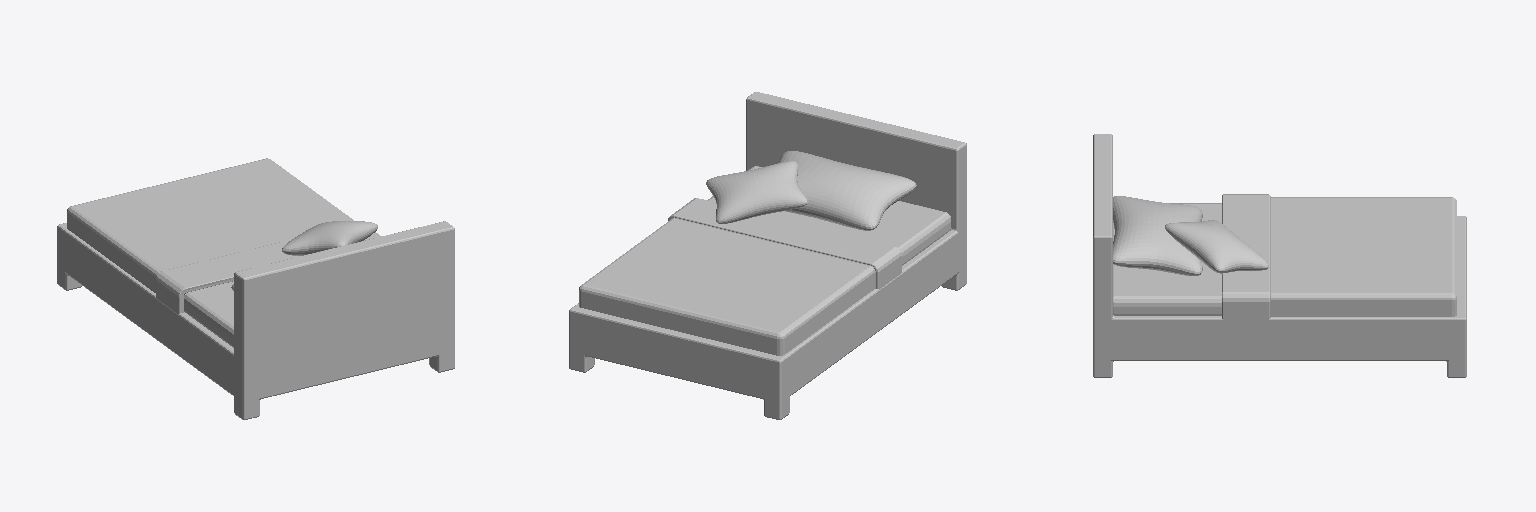
File: cama_2.obj
3 renders of one model, left to right at view 1: azimuth 30°, elevation 25°; view 2: azimuth 150°, elevation 25°; view 3: azimuth 270°, elevation 25°, orthographic.
Visible parts, largest first — view 1: Bed_frame_Plane.001, sheet_Plane.002, metress_Plane, pillow2_Cube.001; view 2: Bed_frame_Plane.001, sheet_Plane.002, Pillow_Cube, pillow2_Cube.001, metress_Plane; view 3: sheet_Plane.002, Bed_frame_Plane.001, metress_Plane, Pillow_Cube, pillow2_Cube.001.
Boxes of the visible parts, x1,y1,x2,y2 form: Bed_frame_Plane.001: [57, 221, 454, 419]; sheet_Plane.002: [67, 158, 381, 313]; metress_Plane: [184, 281, 233, 347]; pillow2_Cube.001: [282, 221, 377, 255]; Bed_frame_Plane.001: [569, 92, 966, 419]; sheet_Plane.002: [579, 198, 901, 355]; Pillow_Cube: [779, 151, 916, 230]; pillow2_Cube.001: [706, 161, 807, 223]; metress_Plane: [708, 166, 950, 265]; sheet_Plane.002: [1222, 194, 1456, 319]; Bed_frame_Plane.001: [1093, 134, 1466, 377]; metress_Plane: [1113, 203, 1221, 315]; Pillow_Cube: [1113, 196, 1202, 275]; pillow2_Cube.001: [1165, 220, 1268, 273].
Size of the model in its own units: 4.21 by 2.7 by 6.42.